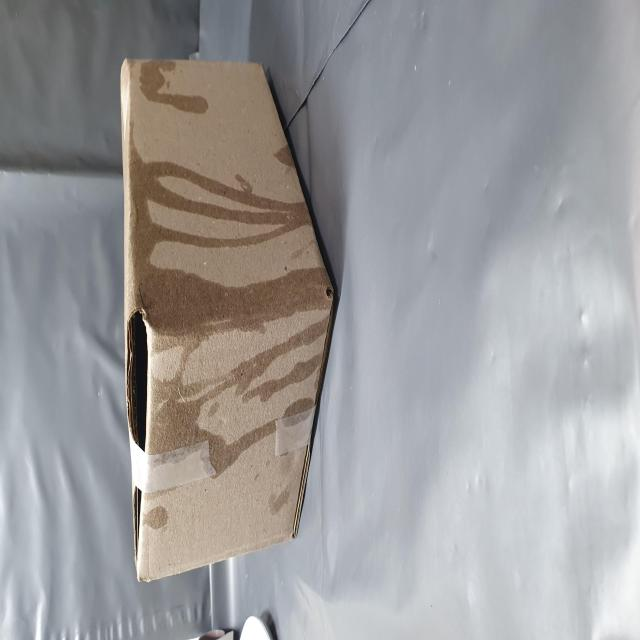wet: (185, 220, 283, 568), (107, 265, 187, 560), (291, 251, 330, 357)
